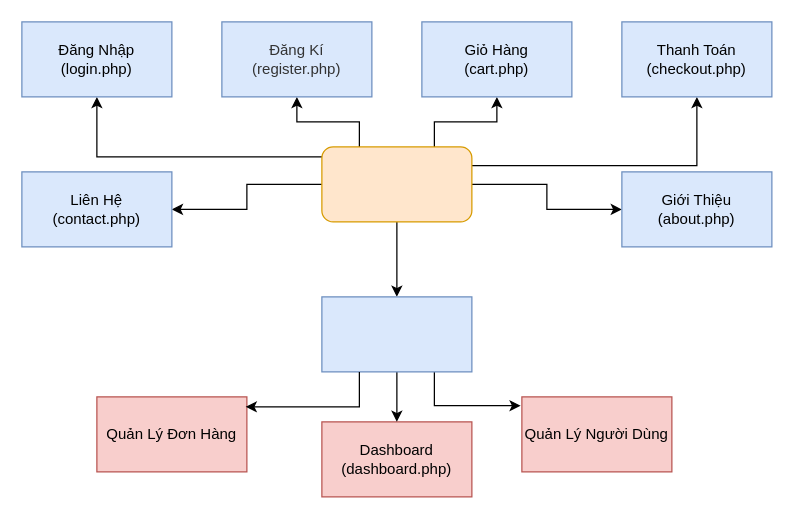
Image size: 794x519. Some labels were removed from this diagram. Each missing label, with the centre of its shape:
"Quản Lý Sản Phẩm" belongs at (x=396, y=334).
"Trang Chủ (index.php)" belongs at (x=396, y=184).
